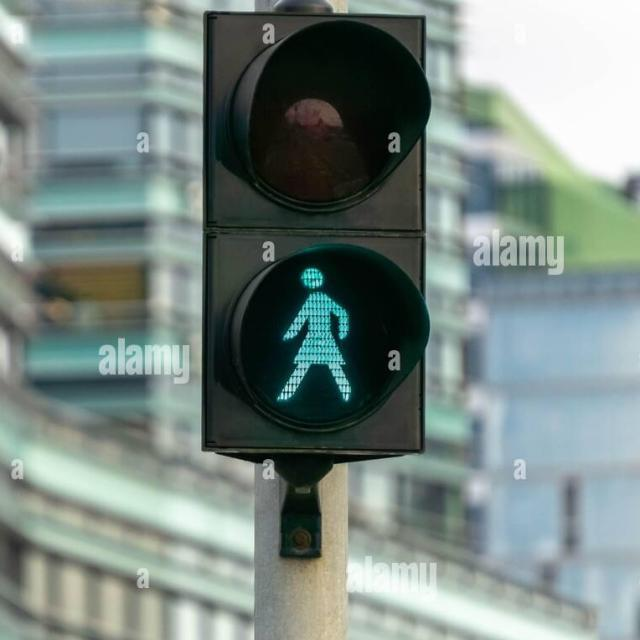geen-crossing: (261, 257, 362, 401)
